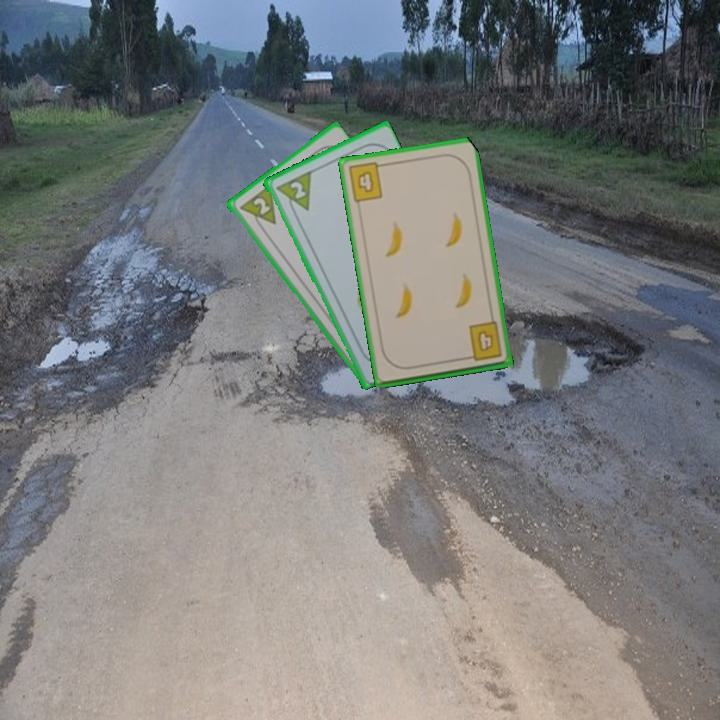2p: (235, 182, 279, 235), (286, 177, 308, 202)
4b: (344, 159, 388, 205), (461, 318, 505, 364)
